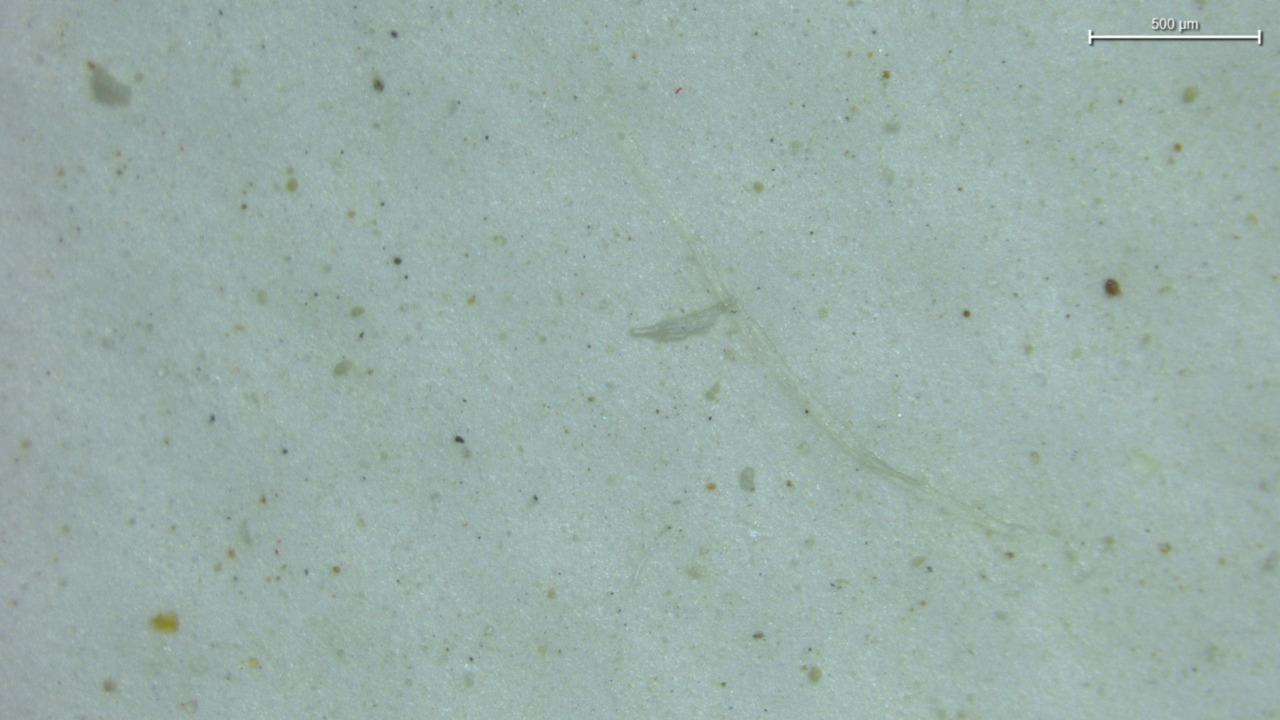microplastic_fragment: (630, 302, 733, 341)
